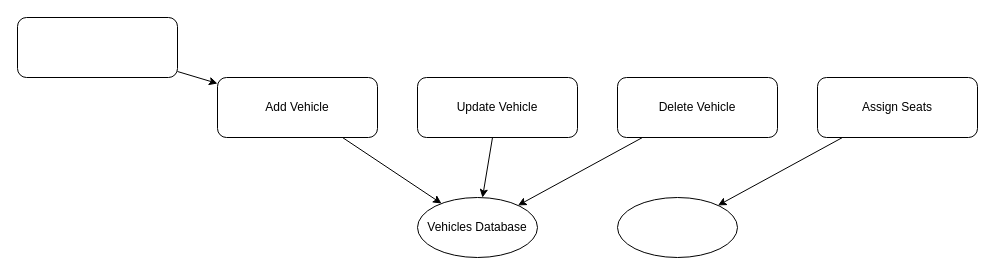
Image size: 995x275. Some labels were removed from this diagram. The box of each missing label's shape, as (x1, y1, x2, y2) in pixels:
Seats Database: (616, 196, 738, 258)
Users (Admin): (16, 16, 178, 78)
